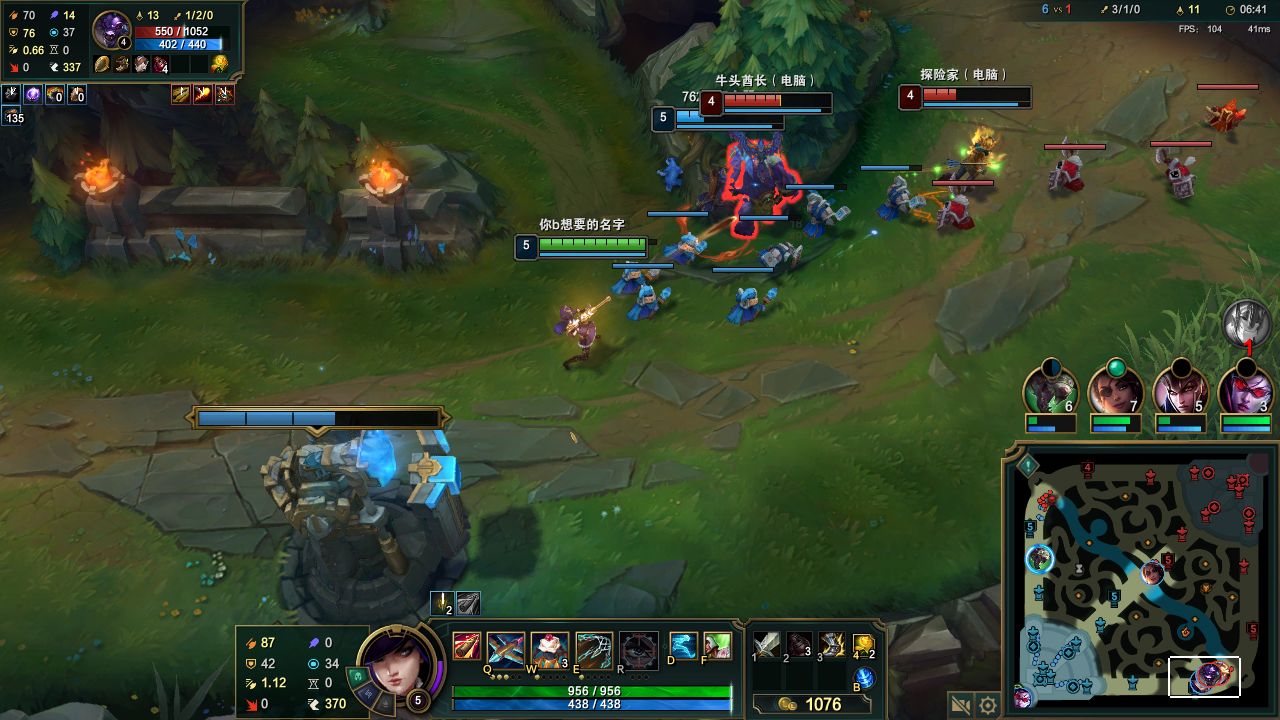DFXB: (939, 193, 971, 232), (1166, 157, 1198, 196), (1052, 153, 1082, 190), (1209, 102, 1244, 132)
DFYX: (924, 88, 1004, 104), (724, 95, 797, 109)
WFXB: (877, 175, 916, 221), (802, 194, 840, 231), (757, 239, 802, 268), (731, 286, 766, 320), (668, 236, 703, 265), (634, 286, 662, 316), (616, 259, 649, 284)
